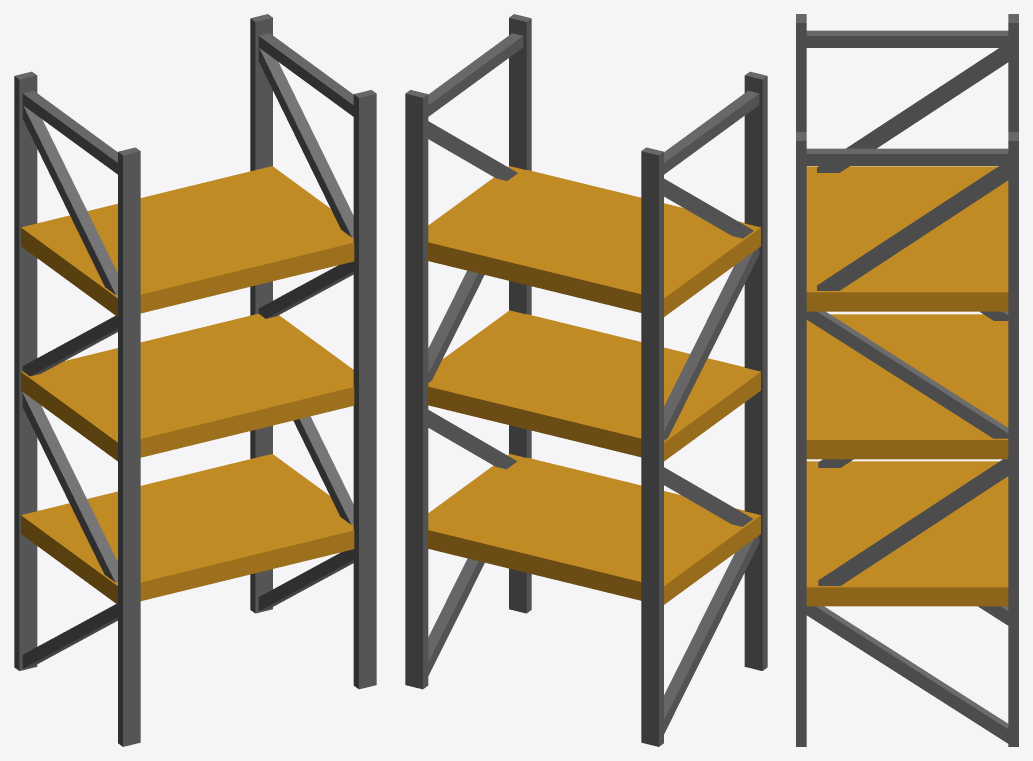
File: StorageShelf_Small.fbx
3 views of the same model, side by side, from view 1: azimuth 30°, elevation 25°; view 2: azimuth 150°, elevation 25°; view 3: azimuth 270°, elevation 25° (orthographic). The views are drawn at different scales.
Visible parts, largest first — view 1: StorageShelf_Small; view 2: StorageShelf_Small; view 3: StorageShelf_Small.
Part boxes in pixels (bbox=[...]): StorageShelf_Small: bbox=[14, 14, 376, 746]; StorageShelf_Small: bbox=[405, 14, 767, 746]; StorageShelf_Small: bbox=[796, 14, 1018, 746].
Size of the model in its own units: 118 by 262 by 87.35.
